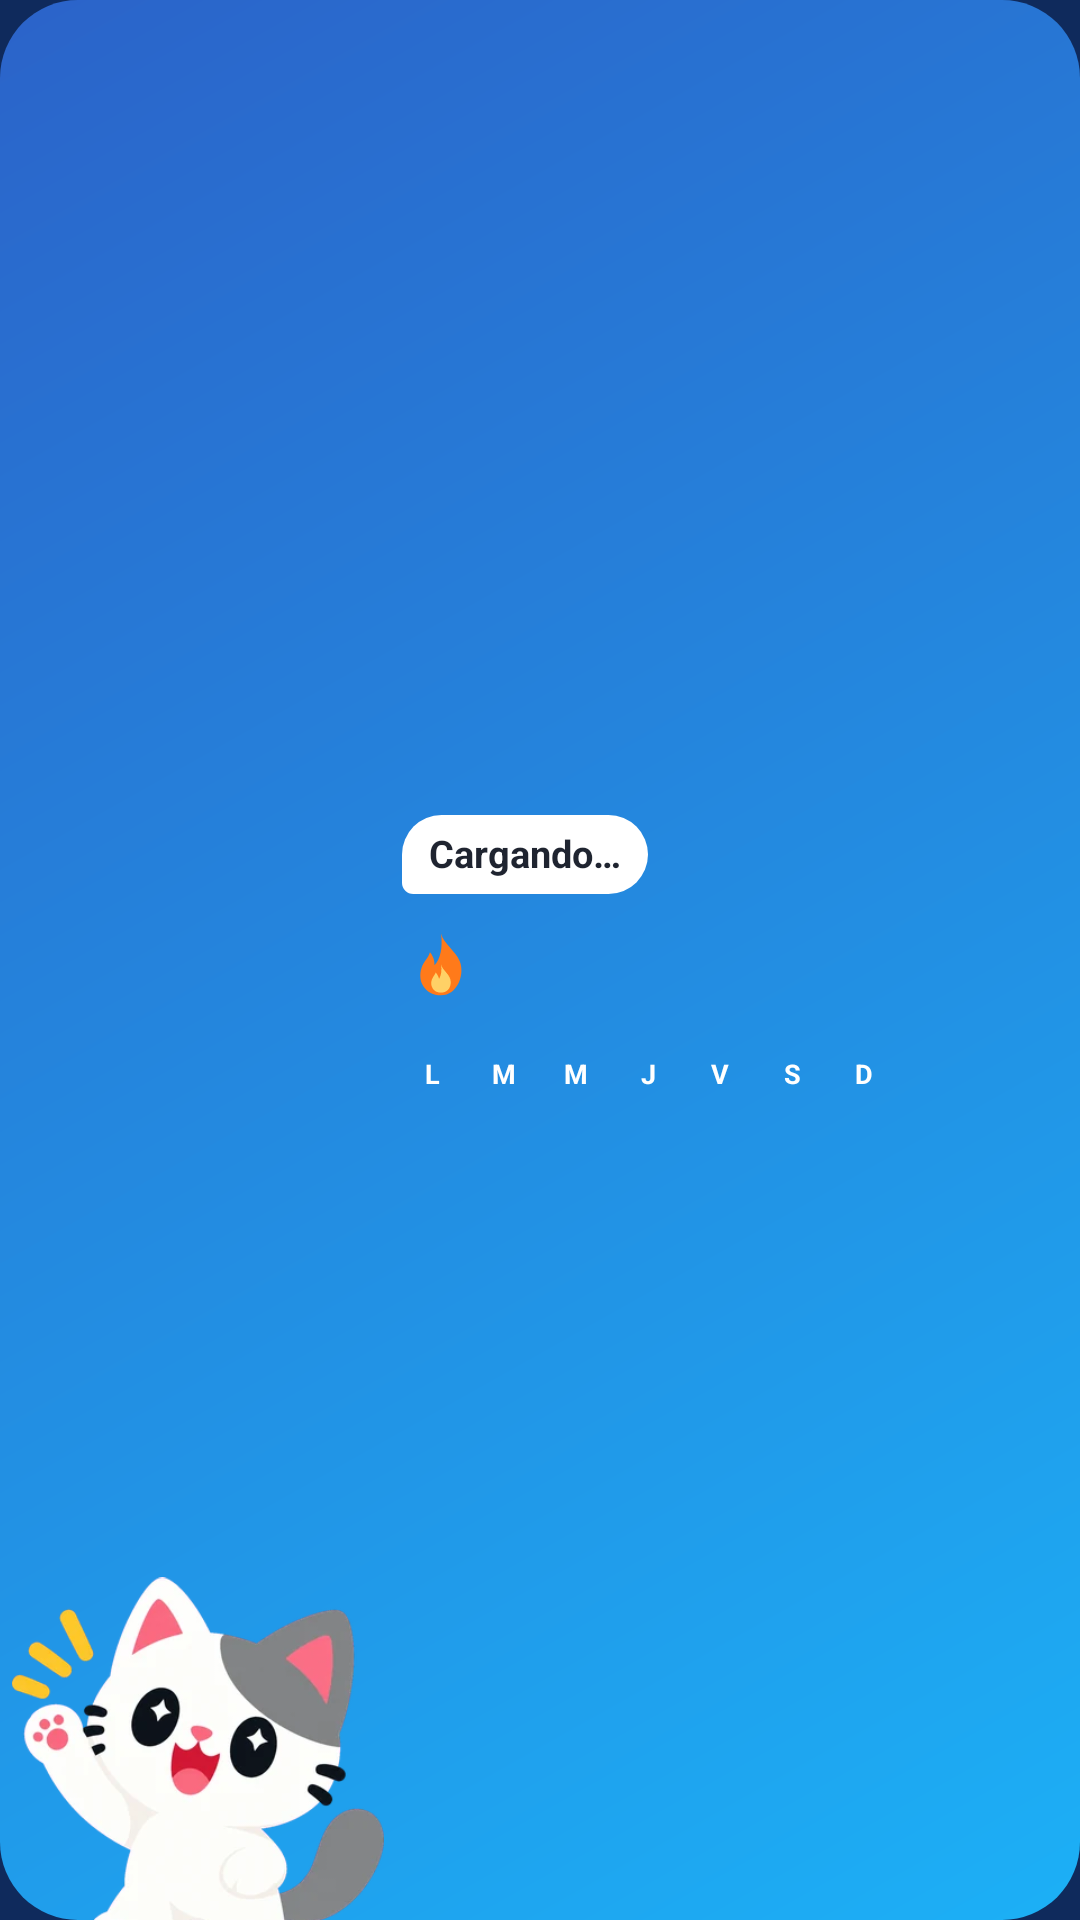

Icon click points for this 1080px x 1920px phone screenshot, format (x,y):
Racha: (441,965)
